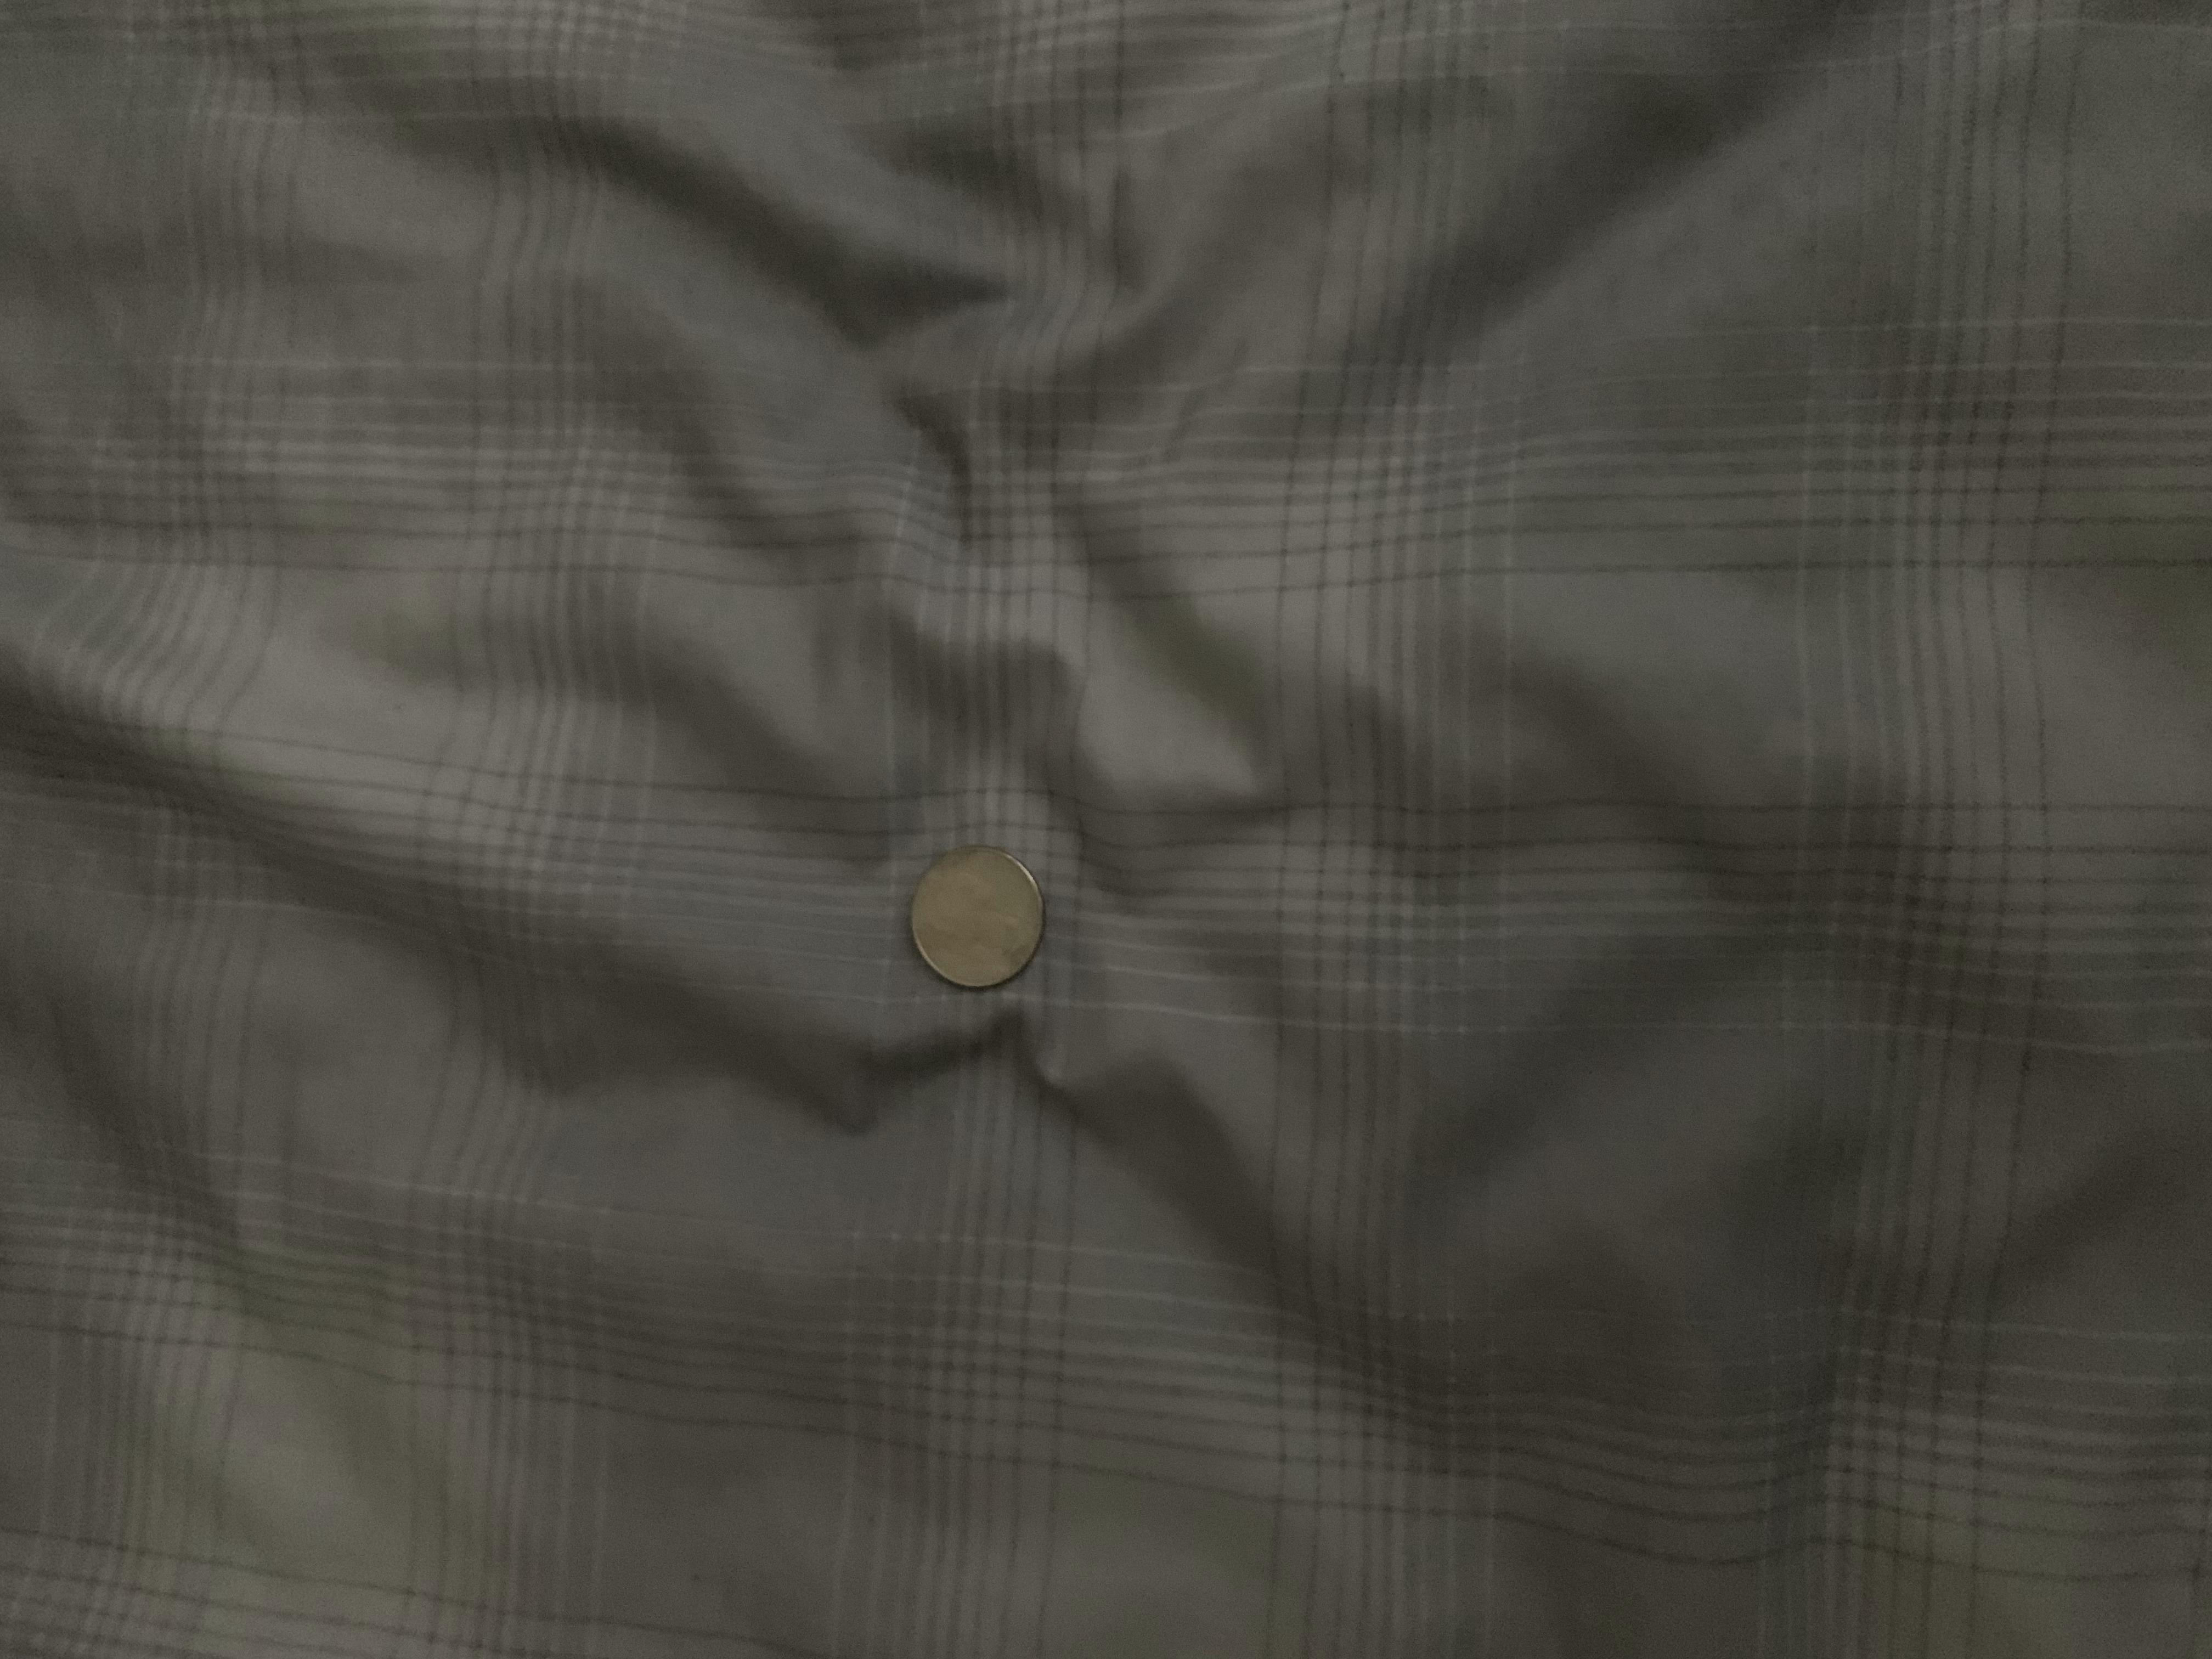Quarter: (902, 845, 1047, 997)
